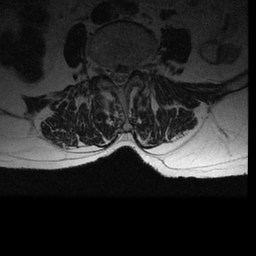CCS_normal: (116, 63, 123, 95)
LFS_stenosis: (131, 57, 138, 79)
LLS_normal: (123, 63, 131, 87)
RFS_normal: (99, 58, 107, 80)
RLS_normal: (107, 63, 115, 87)
